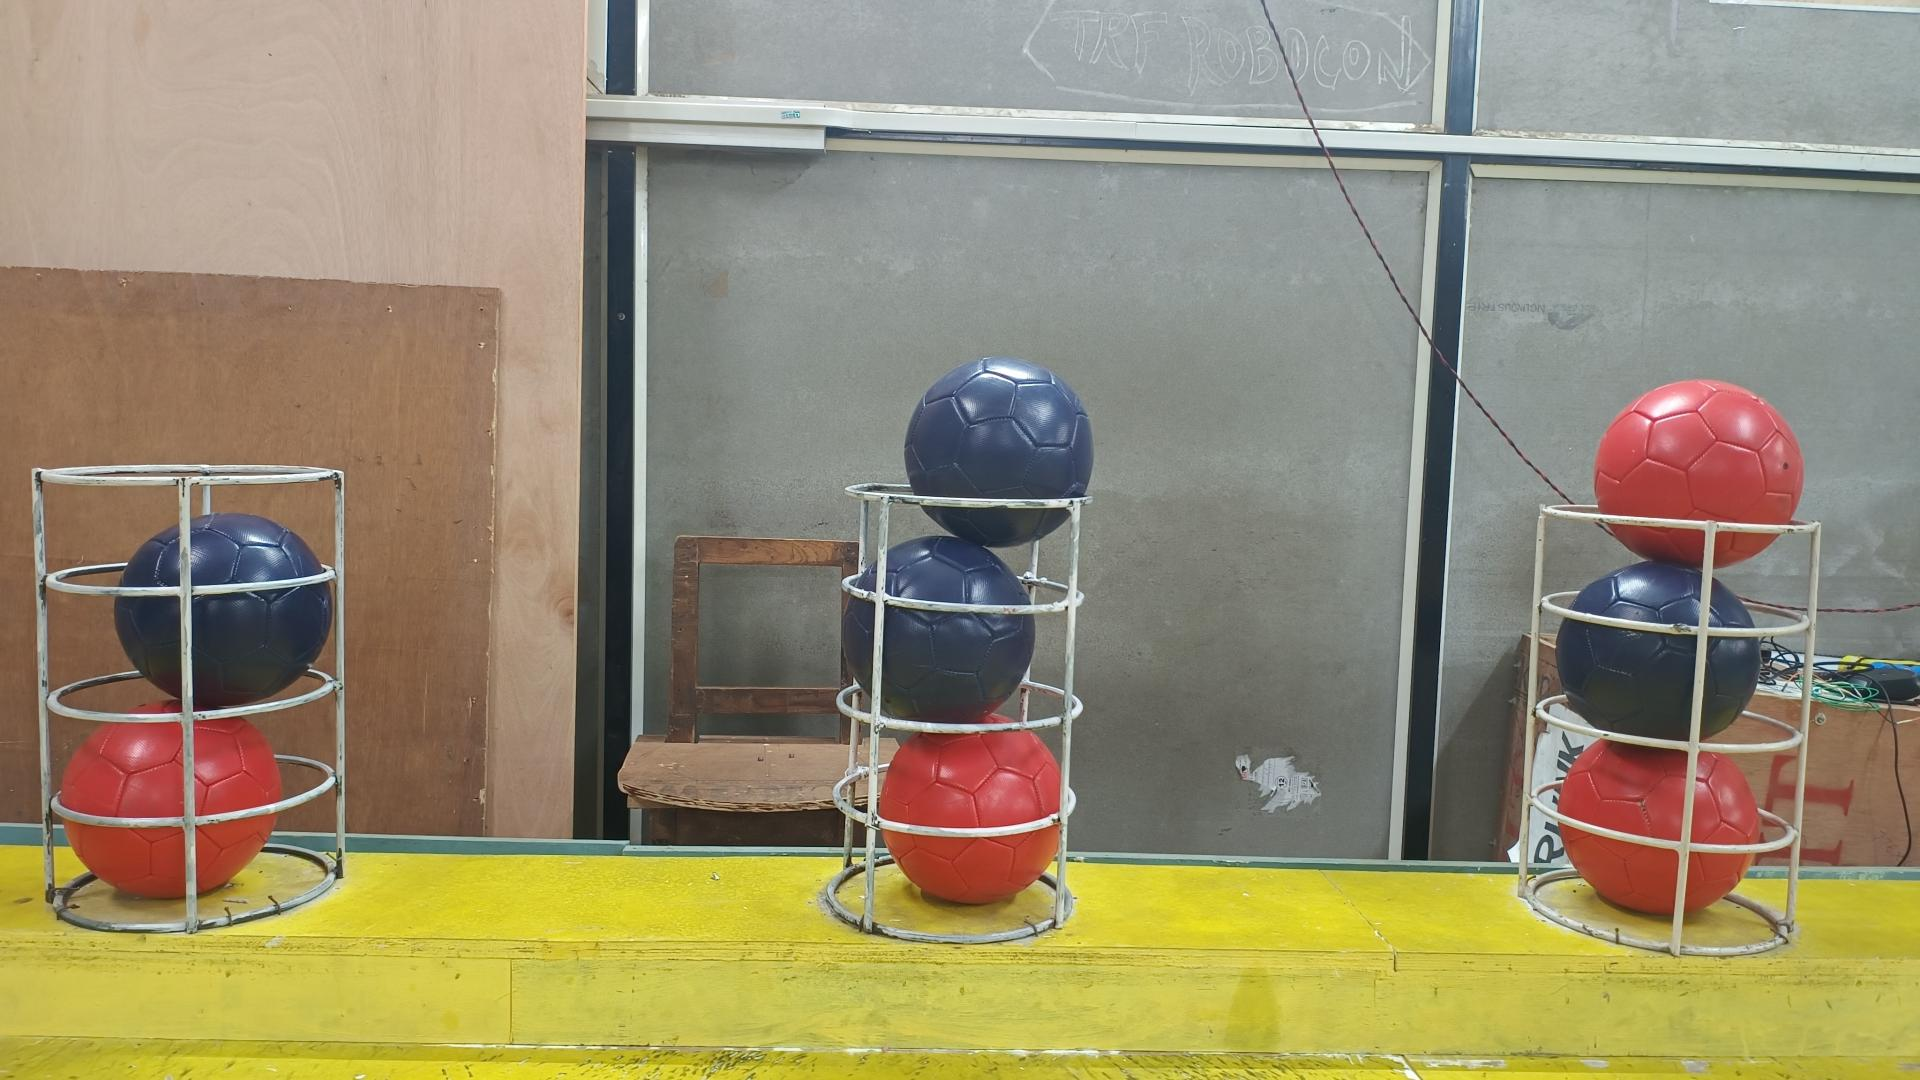dhoka: (113, 516, 331, 715), (1555, 562, 1762, 745), (837, 539, 1033, 731), (902, 357, 1095, 549)
laale: (55, 700, 281, 899), (1593, 378, 1803, 570), (1555, 738, 1760, 914), (877, 731, 1060, 907)
